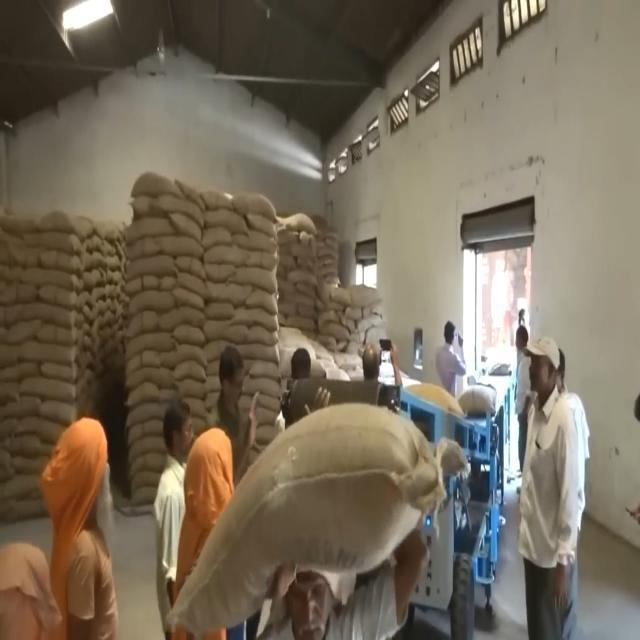gunny_bag: (163, 403, 447, 640), (204, 234, 280, 274), (226, 260, 284, 300), (19, 372, 80, 404), (26, 209, 94, 237), (126, 322, 180, 356), (123, 362, 180, 394), (329, 282, 386, 314), (30, 297, 83, 327), (153, 190, 204, 220), (194, 204, 246, 233), (236, 189, 283, 221), (19, 338, 81, 362), (128, 252, 178, 280), (122, 216, 180, 239), (0, 318, 47, 346), (198, 280, 248, 306), (128, 176, 184, 199), (198, 318, 246, 344), (132, 288, 176, 316), (30, 322, 83, 345), (38, 250, 86, 274), (37, 282, 84, 306), (169, 320, 209, 348), (228, 308, 276, 330), (121, 312, 169, 333), (169, 323, 209, 348), (277, 210, 315, 236), (170, 286, 210, 310), (39, 359, 80, 382), (179, 252, 210, 280), (20, 236, 80, 250), (174, 359, 208, 383), (163, 308, 202, 328), (83, 249, 104, 271), (85, 273, 102, 296)
